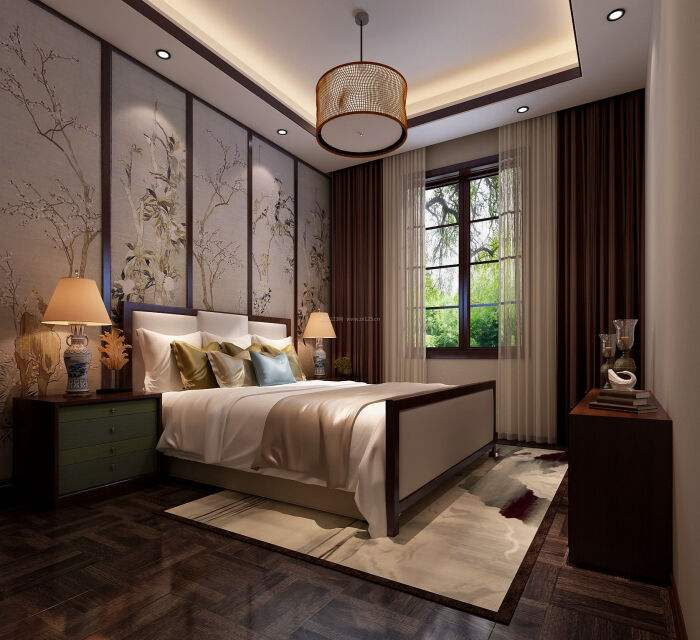床: (151, 369, 485, 518)
枕头: (134, 322, 306, 392)
灯: (314, 18, 416, 161), (35, 274, 110, 396), (300, 310, 342, 374), (605, 8, 630, 26), (152, 48, 175, 63), (515, 105, 535, 117), (275, 127, 292, 140)
